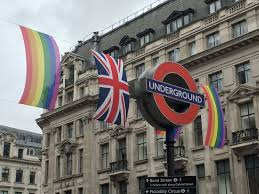London Underground: (137, 62, 204, 127)
